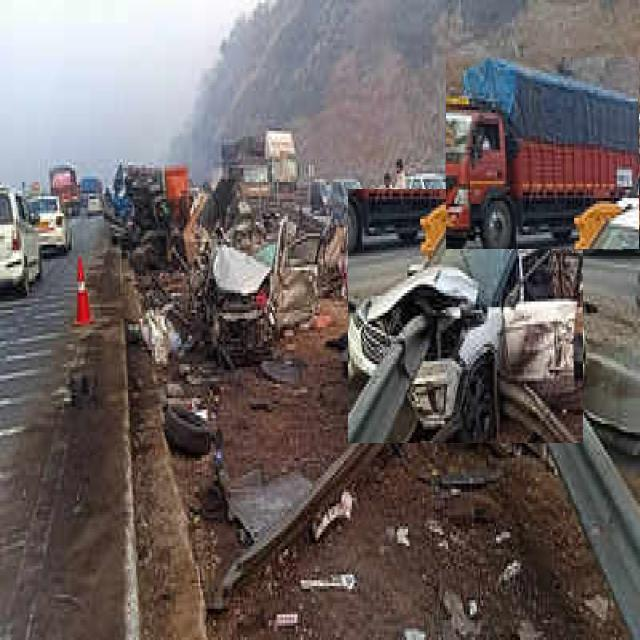accident: (349, 189, 583, 443)
truck: (446, 58, 640, 249)
